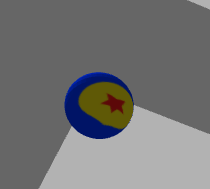toy story ball: (64, 71, 134, 139)
